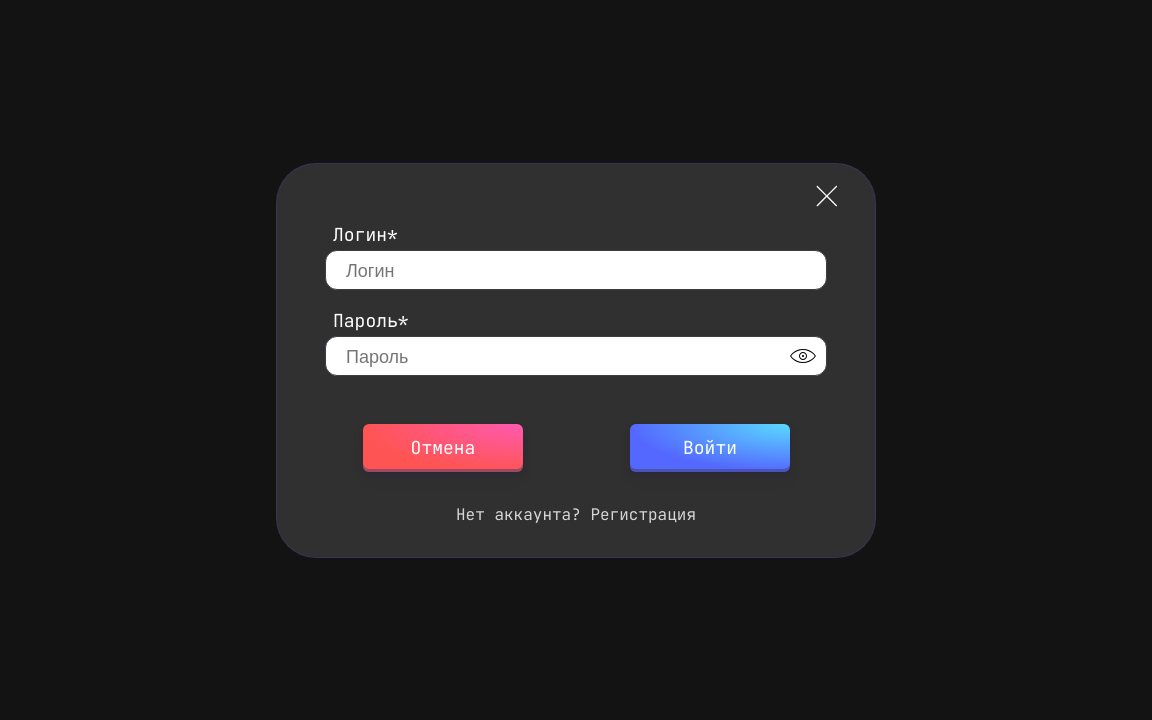
Test case: AuthModal component tests › AuthModal show loading spinner on submit
The width and height of the screenshot is (1152, 720).
Step 1. Type "Login" into the field with placeholder "Логин" → x=576, y=270, box [325,250,827,290]
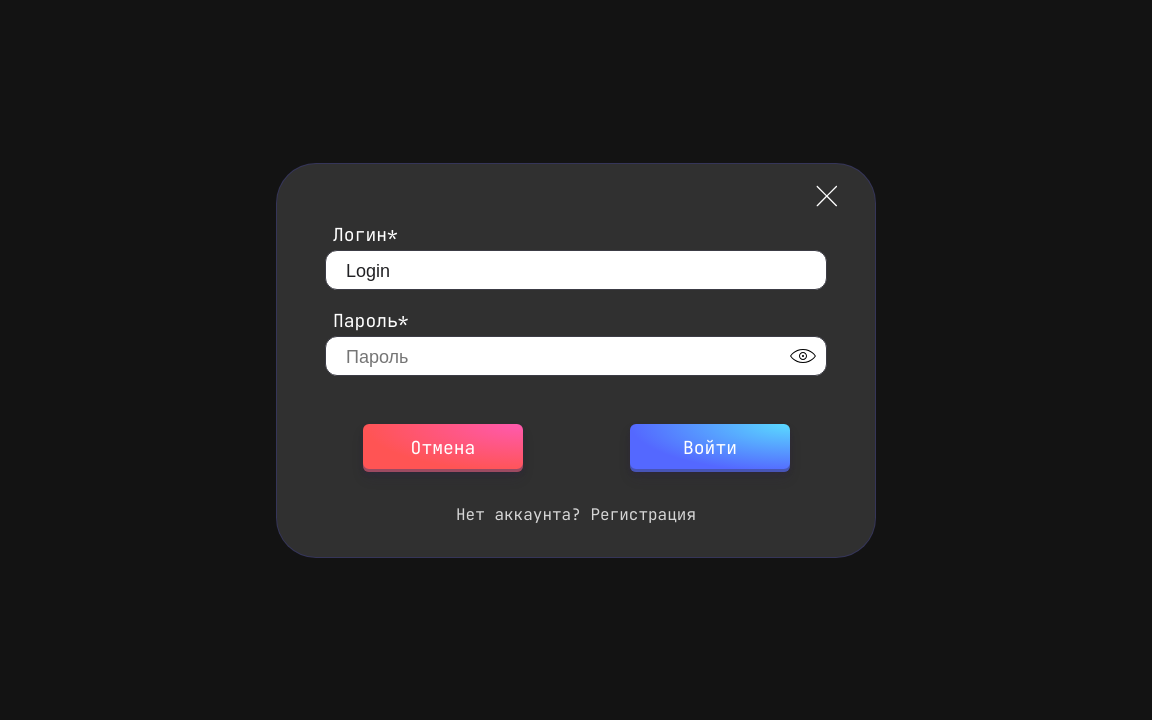
Step 2. Type "password" into the password field with placeholder "Пароль" → x=576, y=356, box [325,336,827,376]
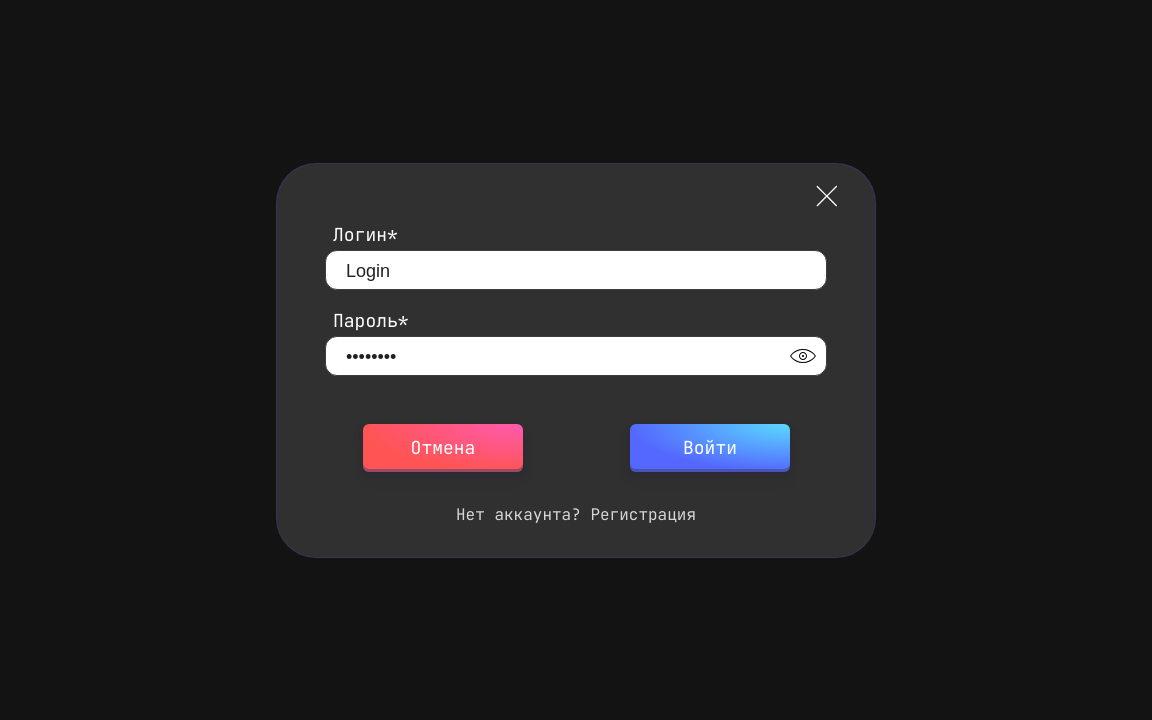
Step 3. Click the button "Войти" → x=710, y=448, box [630,424,790,472]
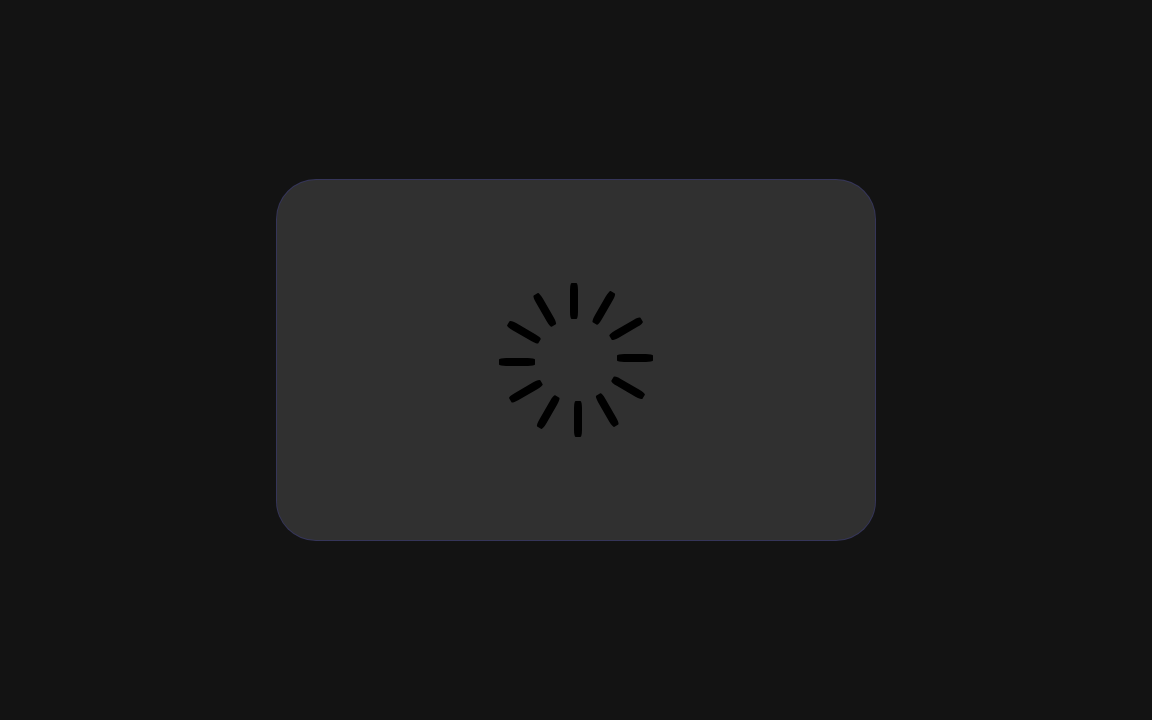
Expected: the element with test id "auth-modal-spinner" is shown, [496,280,656,440]
